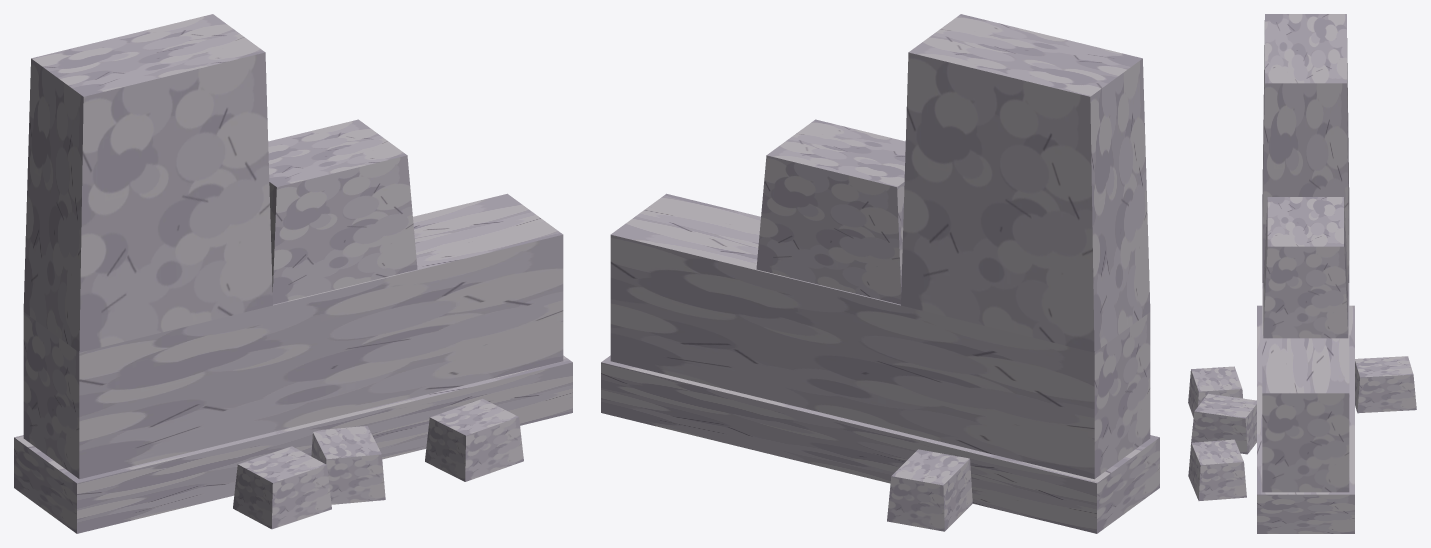
The model's file is wall_broken.glb.
3 views of the same model, side by side, from view 1: azimuth 30°, elevation 25°; view 2: azimuth 150°, elevation 25°; view 3: azimuth 270°, elevation 25° (orthographic). The views are drawn at different scales.
Parts seen in each view (by area): view 1: wall_broken; view 2: wall_broken; view 3: wall_broken.
Boxes of the visible parts, x1,y1,x2,y2 form: wall_broken: (14,14,572,533); wall_broken: (601,14,1159,533); wall_broken: (1188,14,1416,533).
Size of the model in its own units: 4.1 by 3.4 by 2.1.
1 material, 1 textured.
